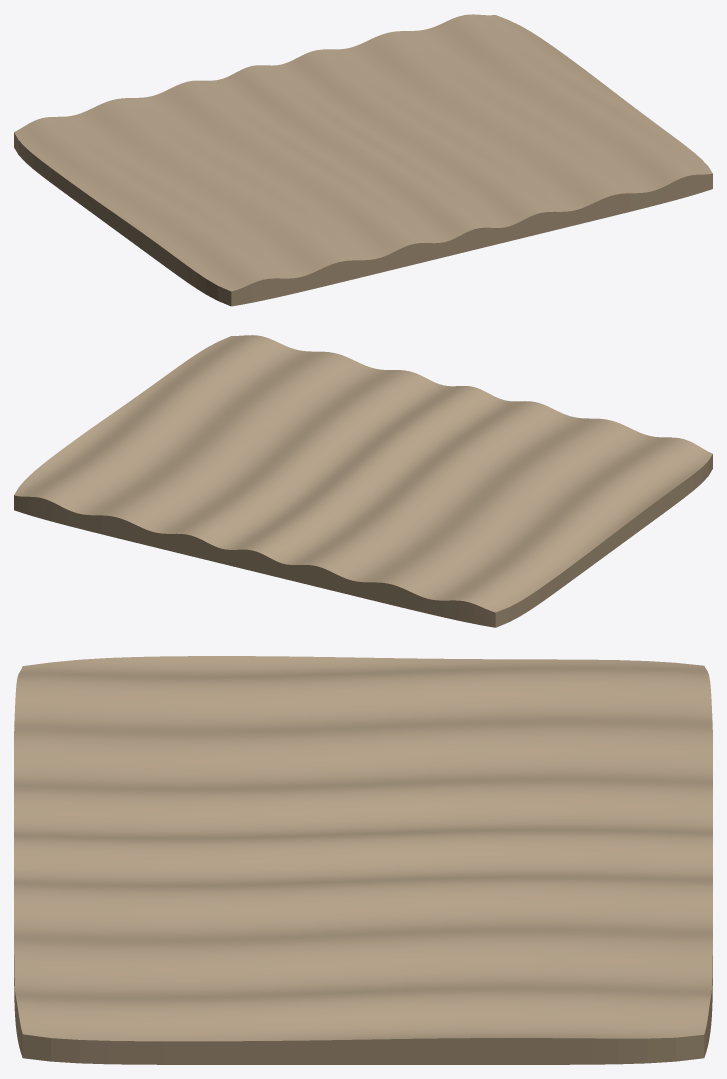
Rendered from wave-ripple-surface.glb.
3 views of the same model, one above another, from view 1: azimuth 30°, elevation 25°; view 2: azimuth 150°, elevation 25°; view 3: azimuth 270°, elevation 25° (orthographic). The views are drawn at different scales.
Parts seen in each view (by area): view 1: bounded-shallow-block-with-symmetric-wave-ripples; view 2: bounded-shallow-block-with-symmetric-wave-ripples; view 3: bounded-shallow-block-with-symmetric-wave-ripples.
Part boxes in pixels (left/top/right/bottom): bounded-shallow-block-with-symmetric-wave-ripples: left=14, top=14, right=712, bottom=306; bounded-shallow-block-with-symmetric-wave-ripples: left=14, top=335, right=712, bottom=627; bounded-shallow-block-with-symmetric-wave-ripples: left=14, top=656, right=712, bottom=1064.
Size of the model in its own units: 1.5 by 0.061 by 1.16.
